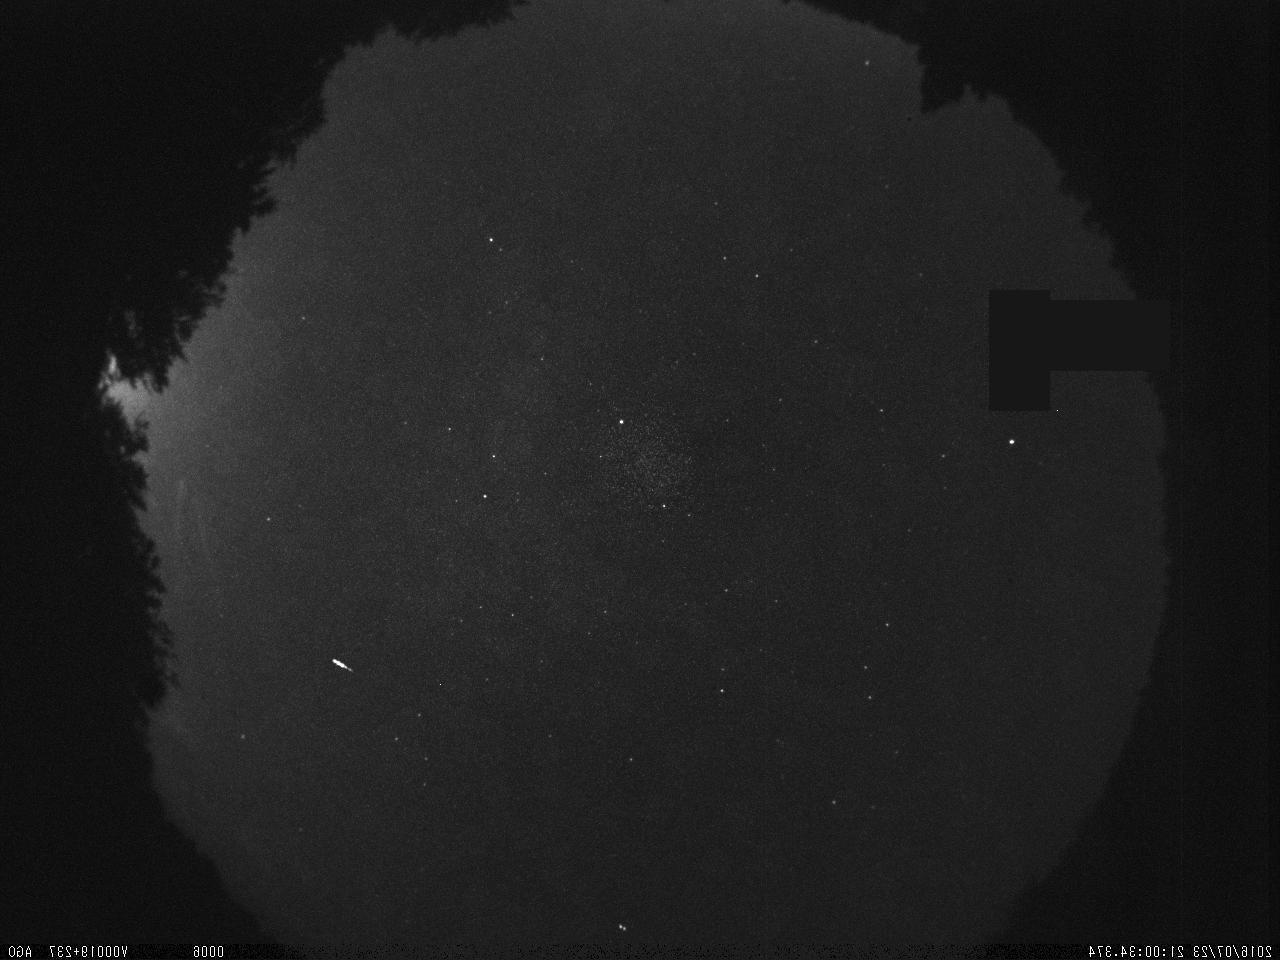meteor: (323, 649, 367, 683)
